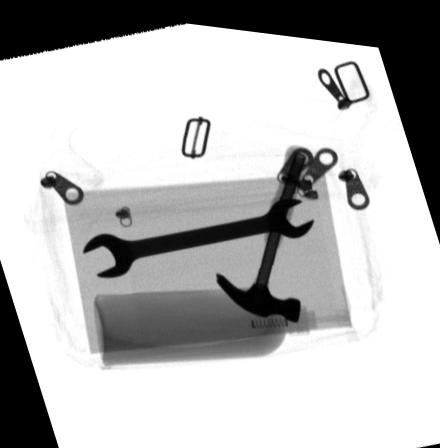Hammer: (216, 137, 313, 314)
Wrench: (84, 191, 315, 276)
